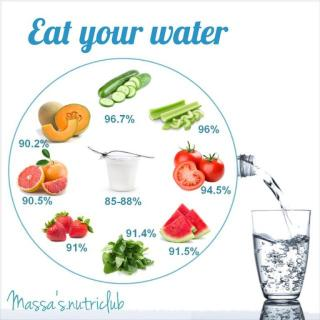tomato: (170, 160, 204, 188), (200, 154, 224, 185), (174, 143, 203, 165)
